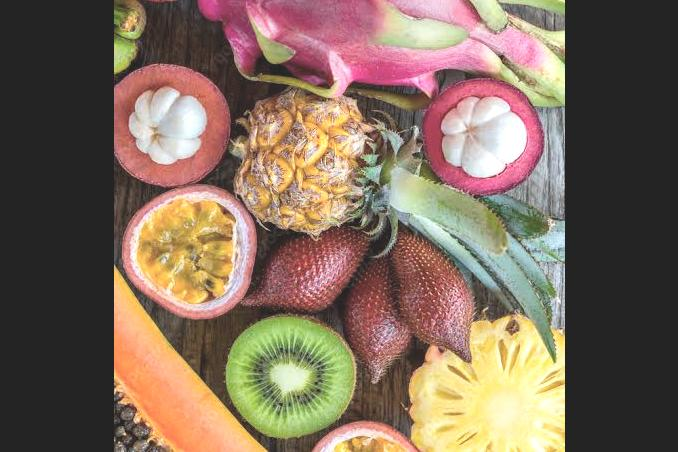thanh_long: (205, 0, 561, 93)
